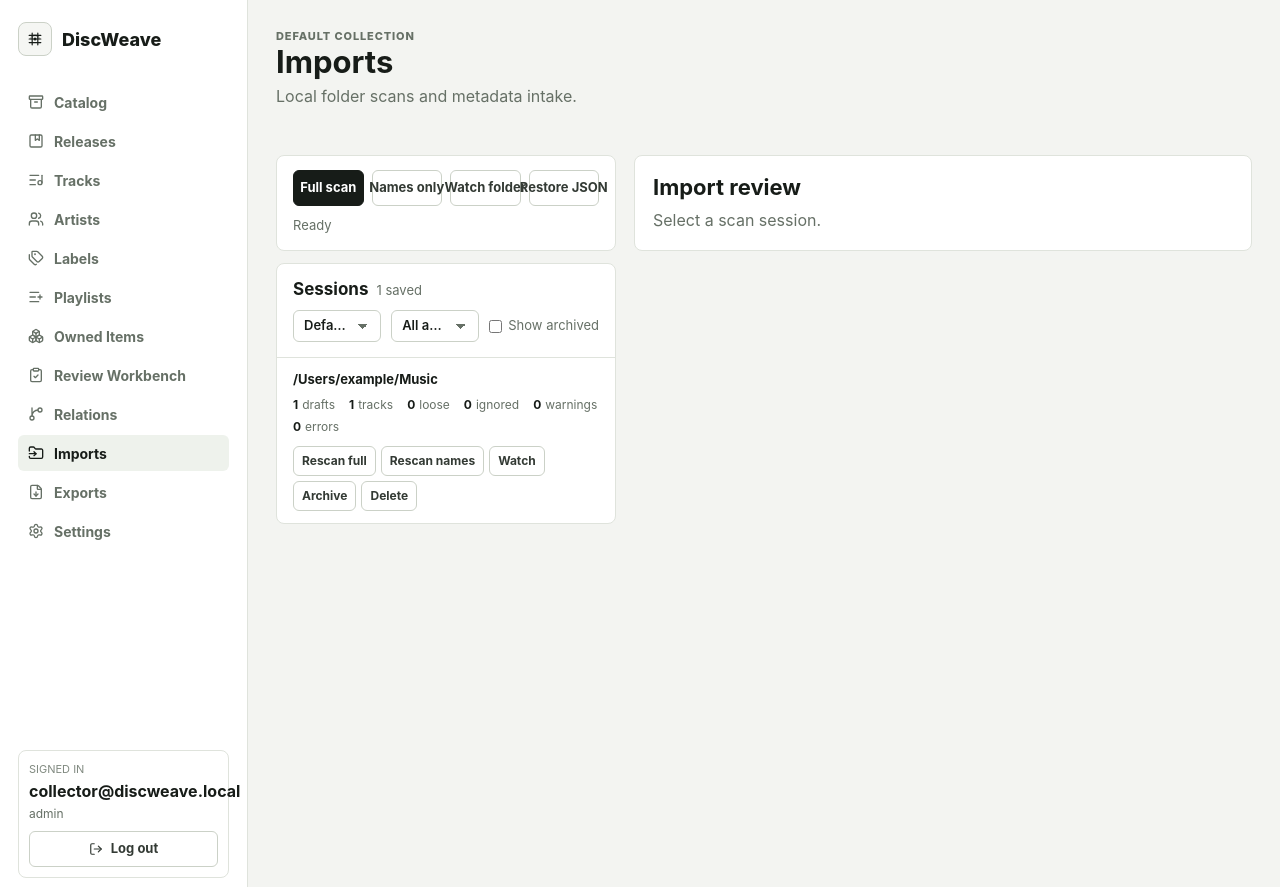
Test: App desktop imports › rescans a saved import source as a new desktop scan session
The image size is (1280, 887).
What coordinates should you click on to do the following:
click the button "Rescan full"
I would click on:
 (334, 461)
Its box is left=293, top=446, right=376, bottom=476.
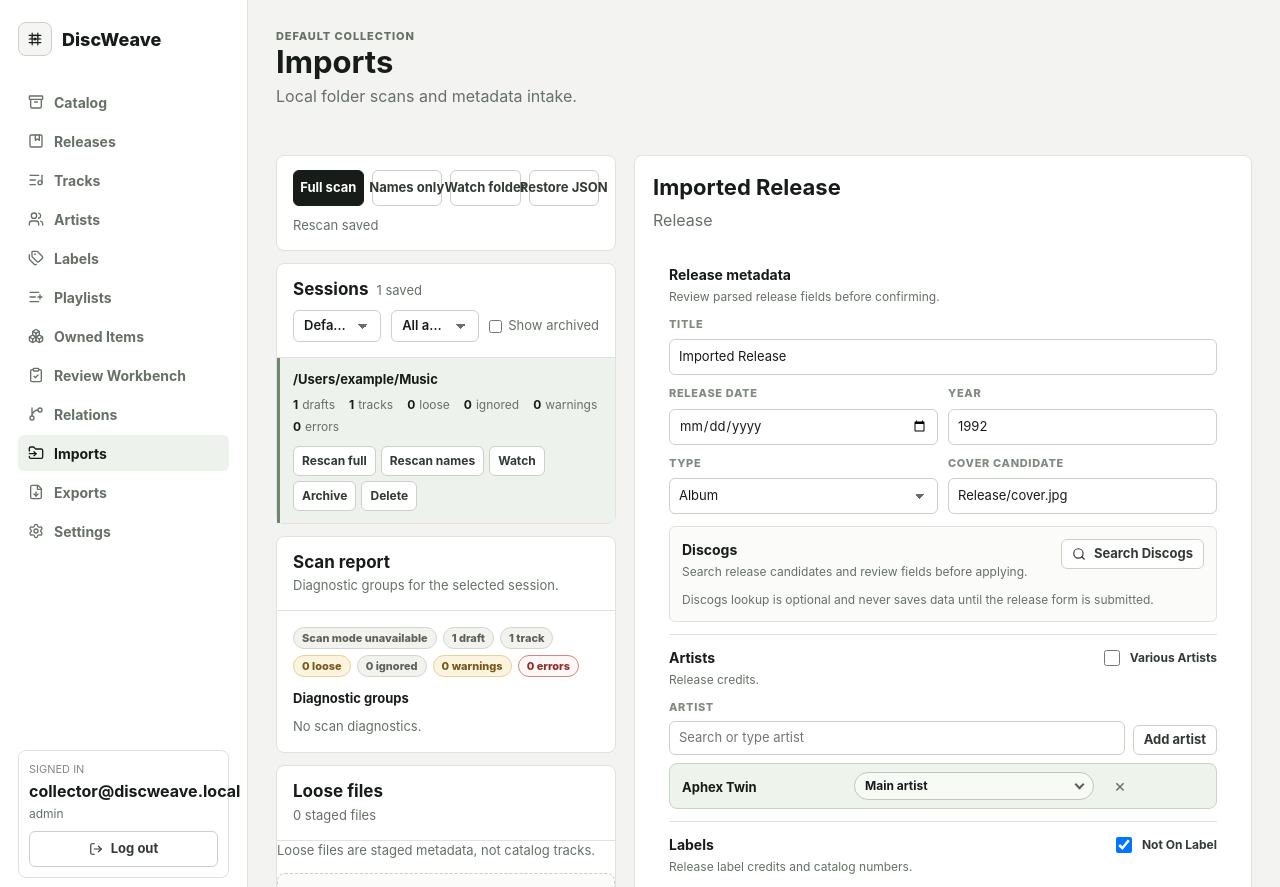
Now the text "Rescan saved" is shown, box left=293, top=217, right=378, bottom=233
